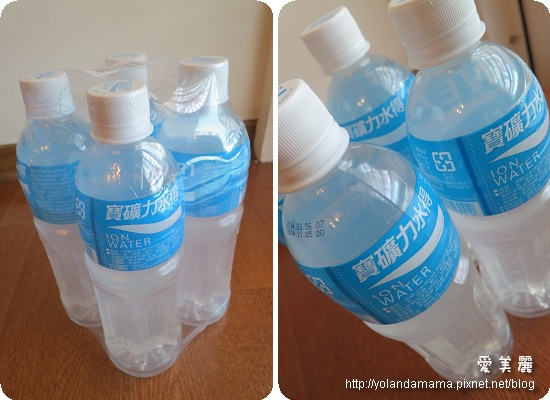POCARI SWEAT: (279, 84, 507, 398), (392, 1, 546, 315), (83, 79, 186, 378)
